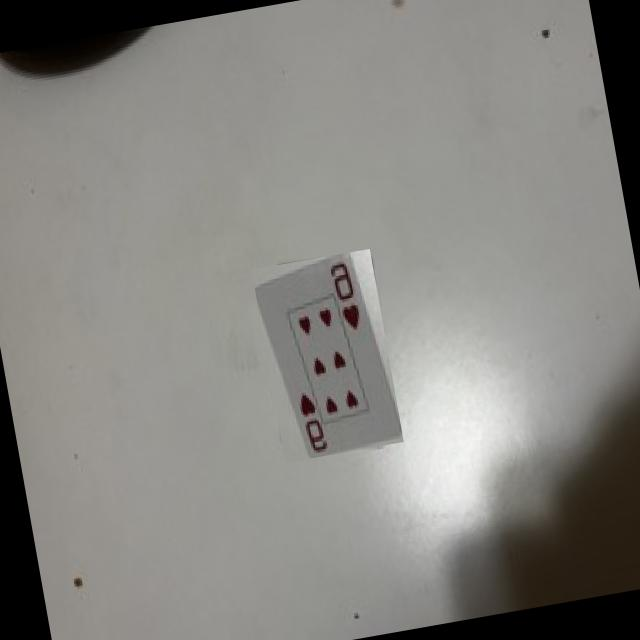6 of hearts: (255, 251, 400, 457)
